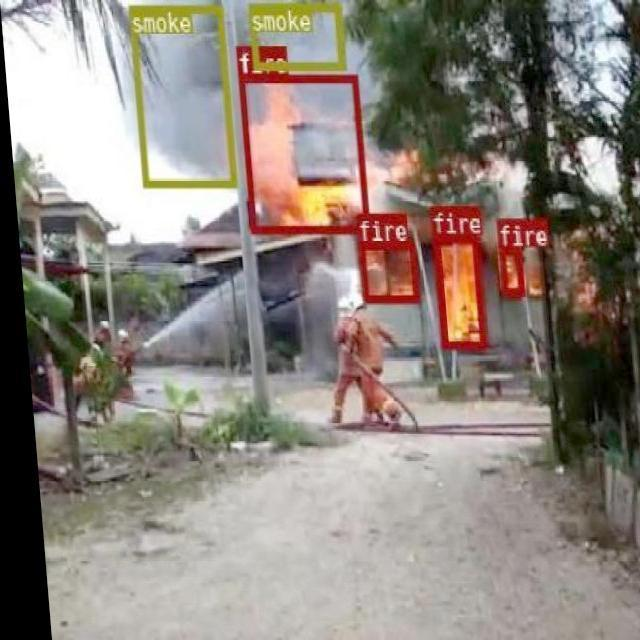Fire: (354, 220, 548, 333), (248, 90, 350, 212)
Smoke: (96, 0, 392, 173)
